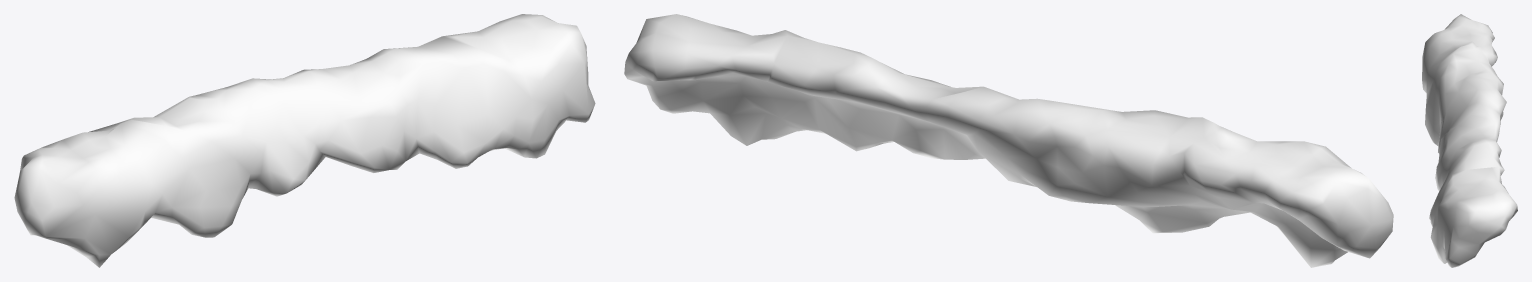
The model's file is SM_Snow3.fbx.
The picture shows the model from 3 angles, left to right: view 1: azimuth 30°, elevation 25°; view 2: azimuth 150°, elevation 25°; view 3: azimuth 270°, elevation 25°; orthographic projection. The views are drawn at different scales.
Visible parts, largest first — view 1: SM_Snow3; view 2: SM_Snow3; view 3: SM_Snow3.
Part boxes in pixels (x1,y1,x2,y2): SM_Snow3: (14,14,595,267); SM_Snow3: (624,14,1393,267); SM_Snow3: (1422,14,1517,267).
Bounding box in the file's own units: 204 × 39.64 × 41.17.
